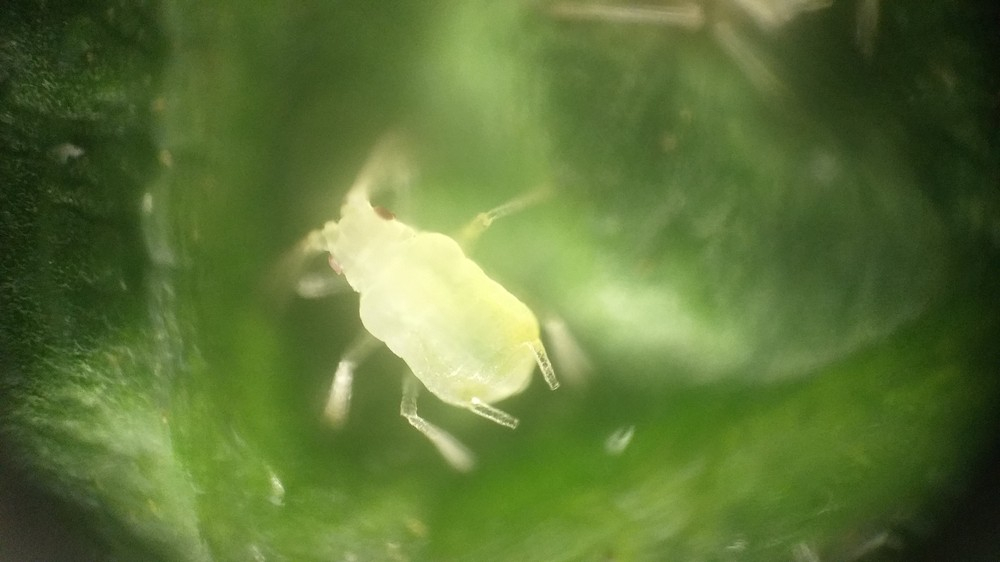Pulgon: (212, 120, 664, 470)
